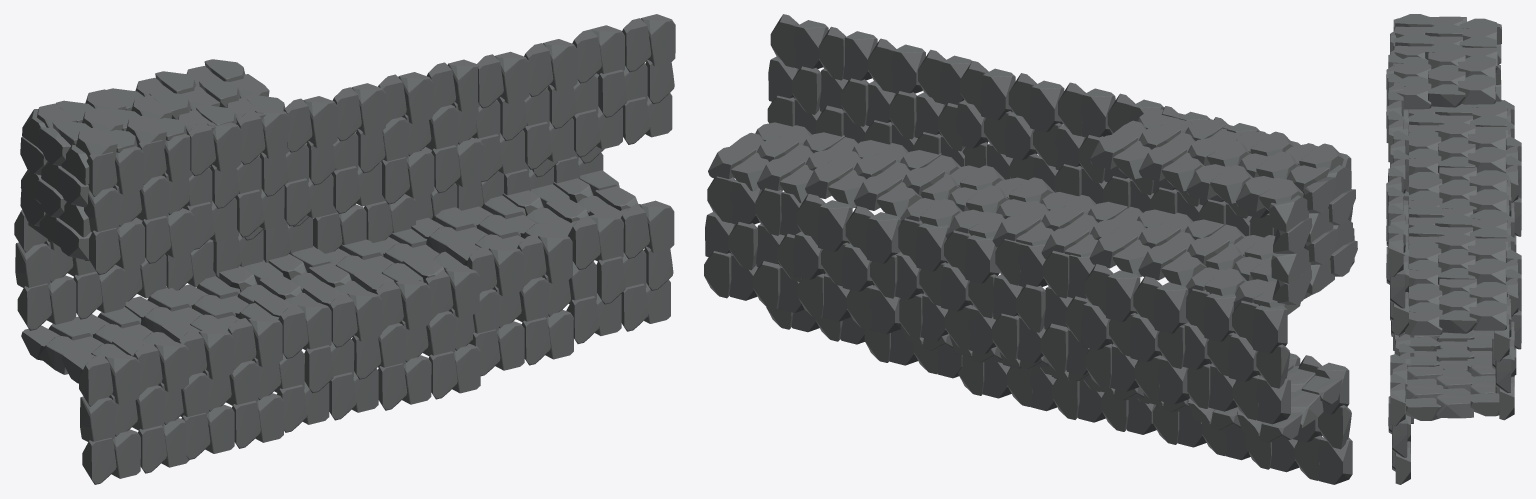
The model's file is CaveMountain.fbx.
The picture shows the model from 3 angles, left to right: view 1: azimuth 30°, elevation 25°; view 2: azimuth 150°, elevation 25°; view 3: azimuth 270°, elevation 25°; orthographic projection. The views are drawn at different scales.
Visible parts, largest first — view 1: Rock 4.005; view 2: Rock 4.005; view 3: Rock 4.005.
Boxes of the visible parts, bbox=[...] form: Rock 4.005: bbox=[14, 14, 675, 484]; Rock 4.005: bbox=[704, 14, 1357, 484]; Rock 4.005: bbox=[1386, 14, 1521, 484].
Bounding box in the file's own units: 8017 × 4338 × 1997.
